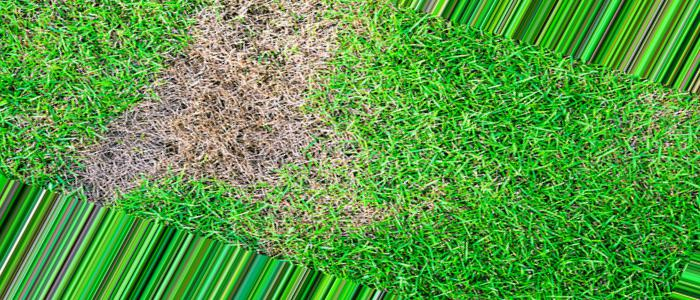patch: (194, 15, 345, 221), (103, 106, 183, 181)
